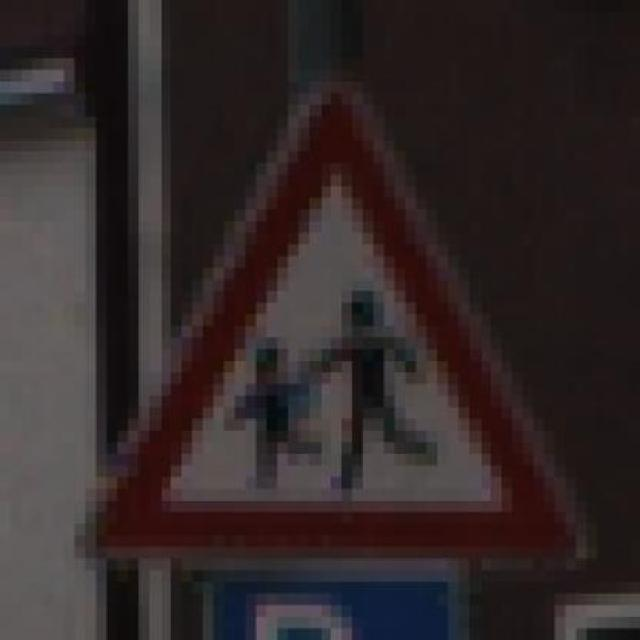Beware of children: (64, 81, 598, 582)
